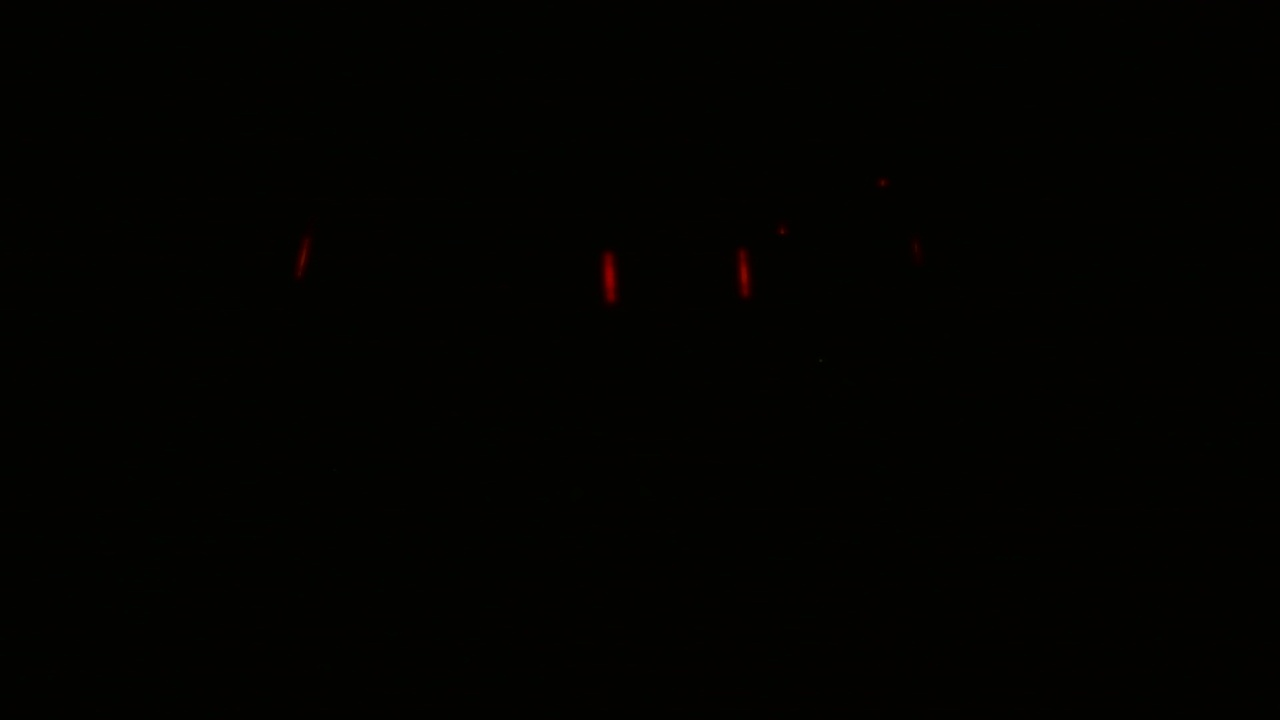pair1: (597, 235, 761, 313)
